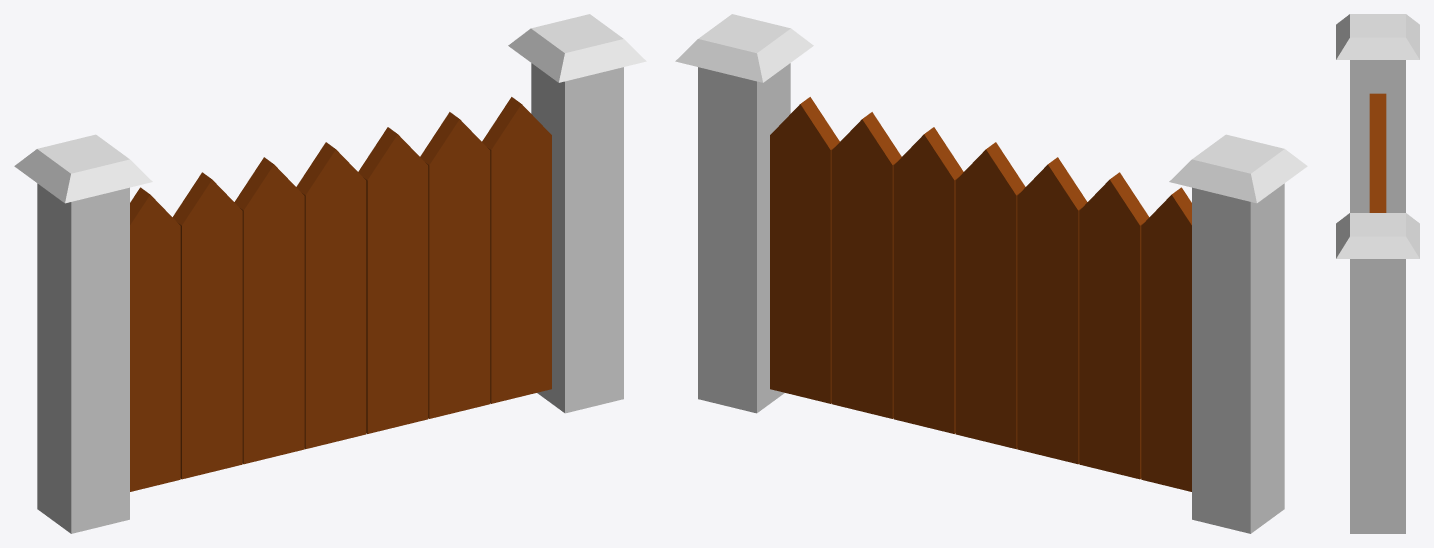
Rendered from Fence_wall_3.FBX.
3 views of the same model, side by side, from view 1: azimuth 30°, elevation 25°; view 2: azimuth 150°, elevation 25°; view 3: azimuth 270°, elevation 25° (orthographic). The views are drawn at different scales.
Visible parts, largest first — view 1: Fence_wall_3; view 2: Fence_wall_3; view 3: Fence_wall_3.
Boxes of the visible parts, x1,y1,x2,y2 form: Fence_wall_3: [14, 14, 646, 533]; Fence_wall_3: [675, 14, 1307, 533]; Fence_wall_3: [1336, 14, 1419, 533].
Size of the model in its own units: 1.46 by 0.8655 by 0.2213.
Materials: 1 (1 with a texture image).
